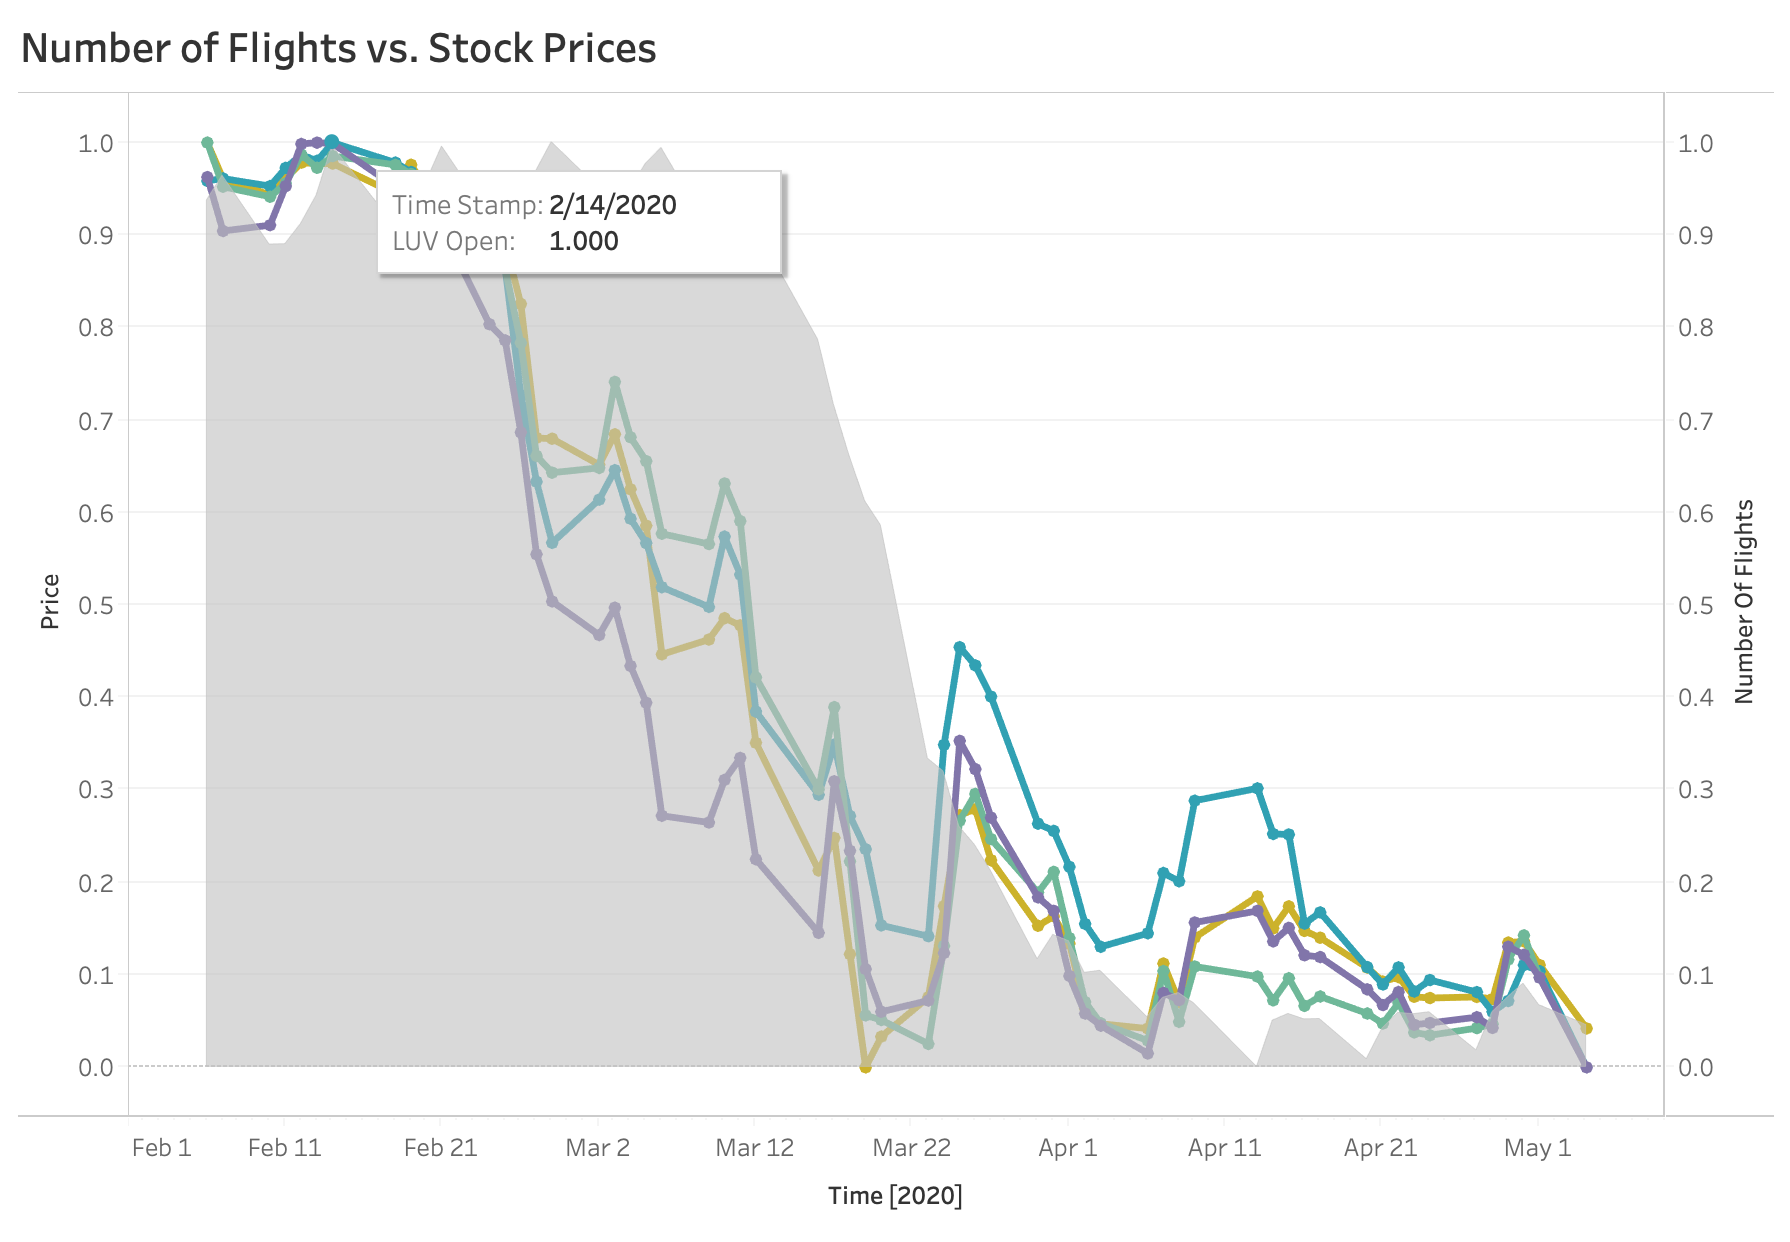

This screenshot's page, from the dashboard's own definition file:
{"tool":"tableau","page":{"name":"Dashboard 1","canvas":[1000,1000],"units":"permille","ordinal":0},"visuals":[{"type":"worksheet","title":"Fig 1","mark":"Automatic","rows":["NumberOfFlights"],"cols":["TimeStamp"],"box":[7.8,12.4,828.1,975.2]},{"type":"legend","title":"Fig 1","param":"[federated.0j0h2uk1pa196e18oghfv0ouhi4r].[:Measure Names]","box":[835.9,12.4,156.2,164.6]}]}

Visuals, with their boxes on the dashboard's canvas, which has no fixed pixel size, in thousandths of its width and height (x1, y1, x2, y2). These are canvas units, not pixel positions in the 1790x1242 screenshot, which may show the page scaled, cropped or inside an application window:
"Fig 1" worksheet: [left=8, top=12, right=836, bottom=988]
"Fig 1" legend: [left=836, top=12, right=992, bottom=177]
